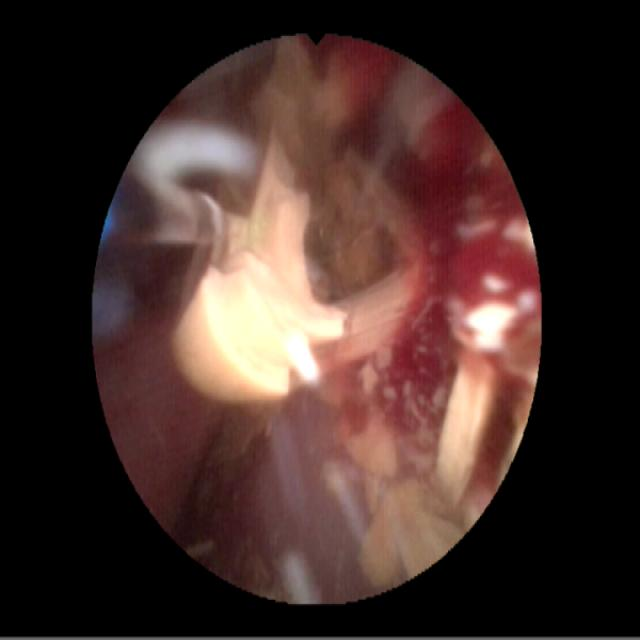stone: (170, 42, 422, 414), (342, 356, 497, 582), (472, 310, 508, 343)
tissue: (96, 257, 379, 592), (346, 47, 525, 447)
